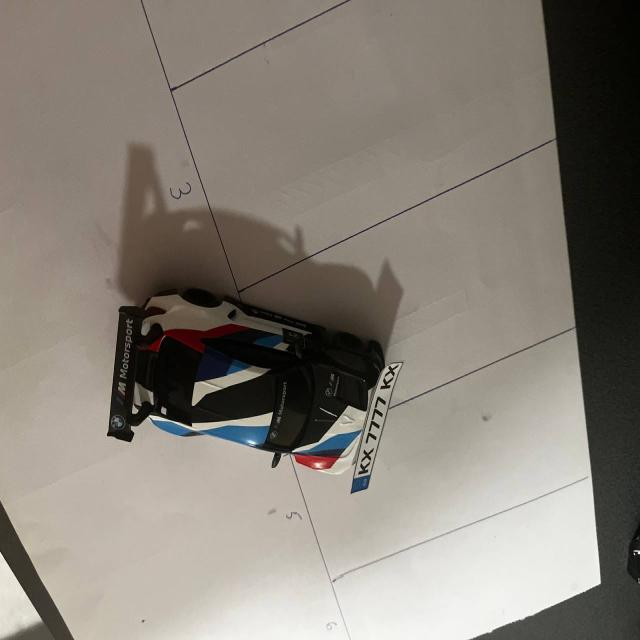KX 7777 KX: (350, 357, 405, 493)
